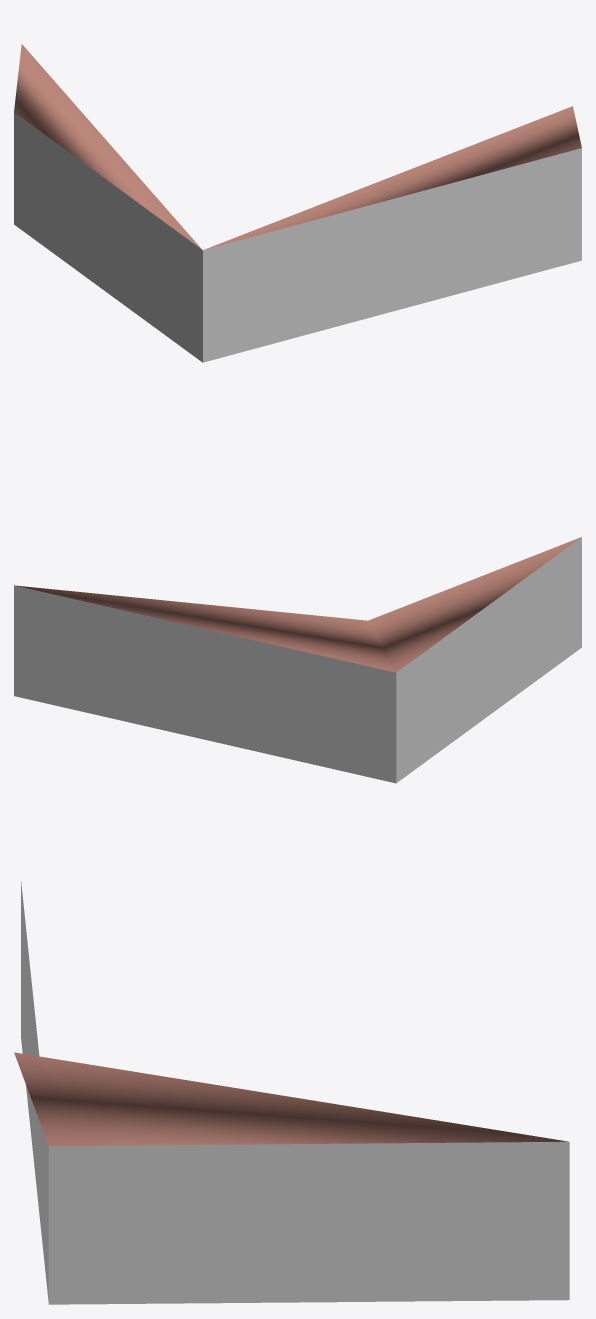
Rendered from custom-generated-latest.glb.
The picture shows the model from 3 angles, top to bottom: view 1: azimuth 30°, elevation 25°; view 2: azimuth 150°, elevation 25°; view 3: azimuth 270°, elevation 25°; orthographic projection. The views are drawn at different scales.
Parts seen in each view (by area): view 1: house; view 2: house; view 3: house.
Part boxes in pixels (left/top/right/bottom): house: left=14, top=44, right=581, bottom=362; house: left=14, top=537, right=581, bottom=783; house: left=14, top=881, right=569, bottom=1304.
Size of the model in its own units: 14.47 by 6 by 13.
